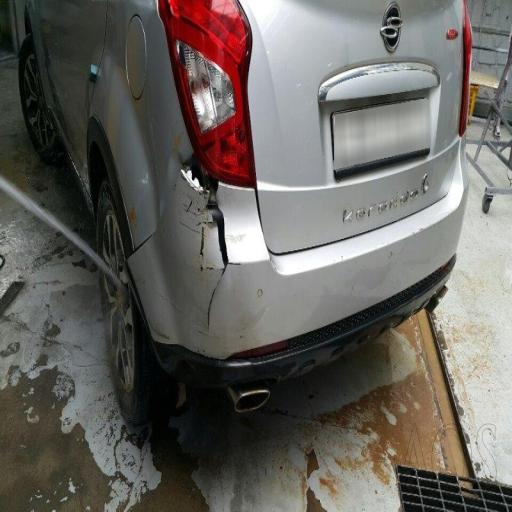broken: (154, 94, 277, 328)
